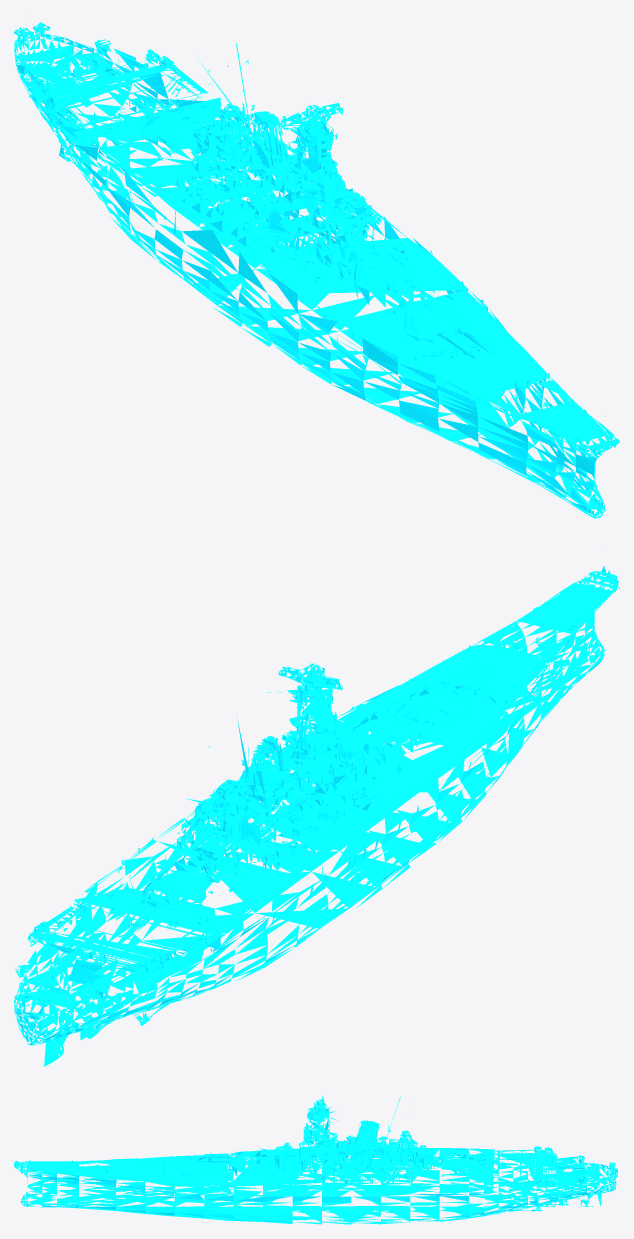
The model's file is Shikishima.glb.
The picture shows the model from 3 angles, top to bottom: view 1: azimuth 30°, elevation 25°; view 2: azimuth 150°, elevation 25°; view 3: azimuth 270°, elevation 25°; orthographic projection. The views are drawn at different scales.
Bounding box in the file's own units: 2.63 × 3.52 × 17.56.
